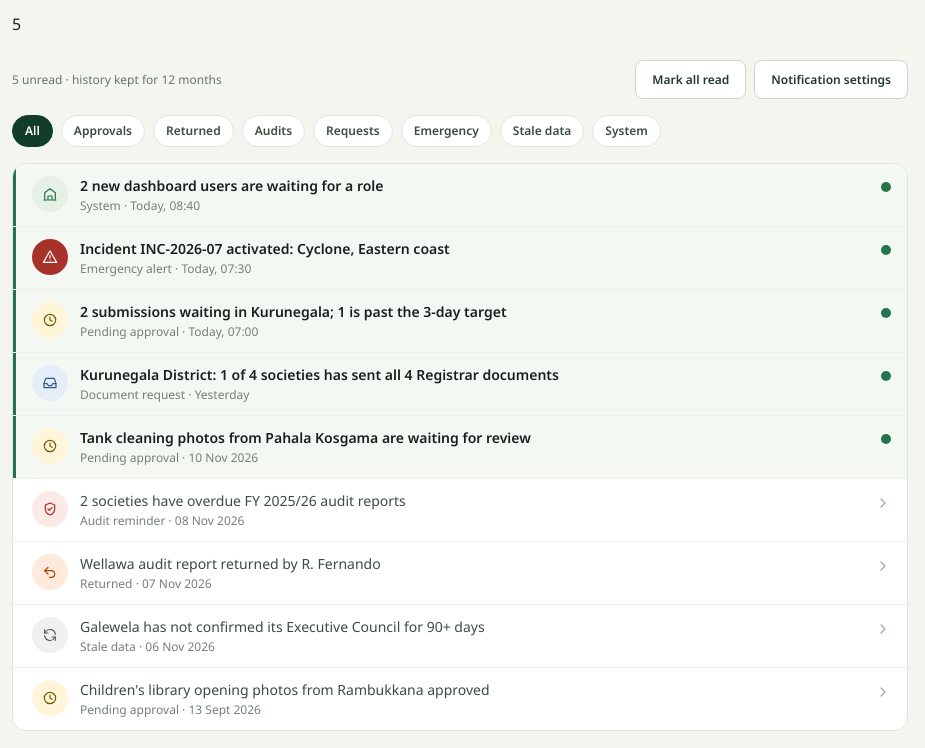
Test: NotificationCentre › marks a notification read when it is opened and links to the related page
The width and height of the screenshot is (925, 748).
Click the link "Kurunegala District: 1 of 4 societies" at [460, 384], box [13,353,907,415]
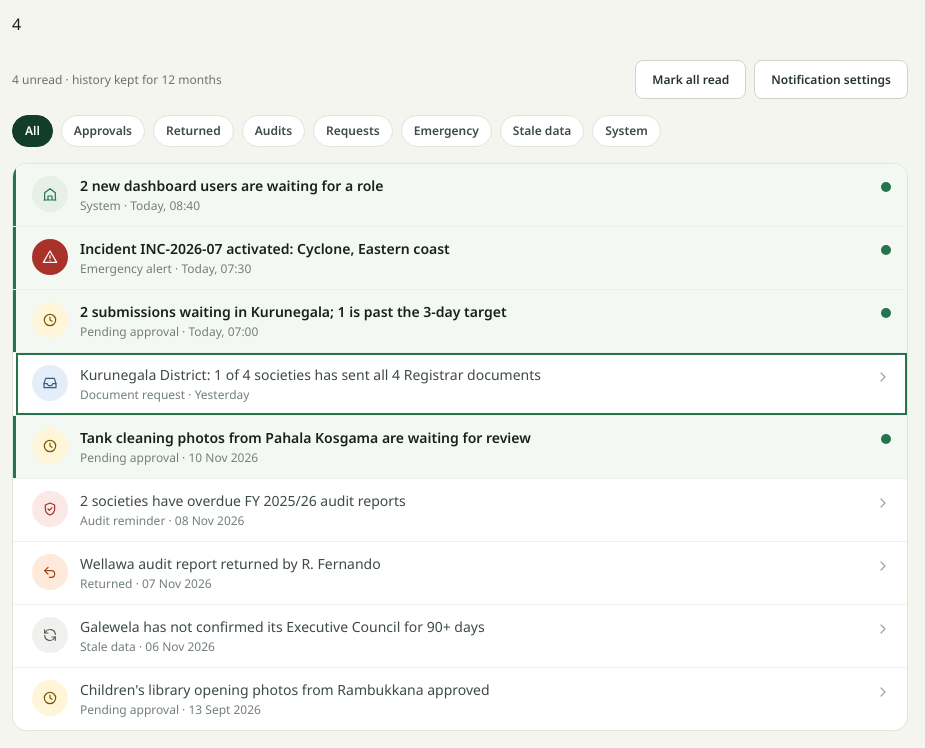
Check: the message shows "4 unread", box [12,71,62,88]
Check: the text with test id "badge" reads "4", box [12,13,21,35]
